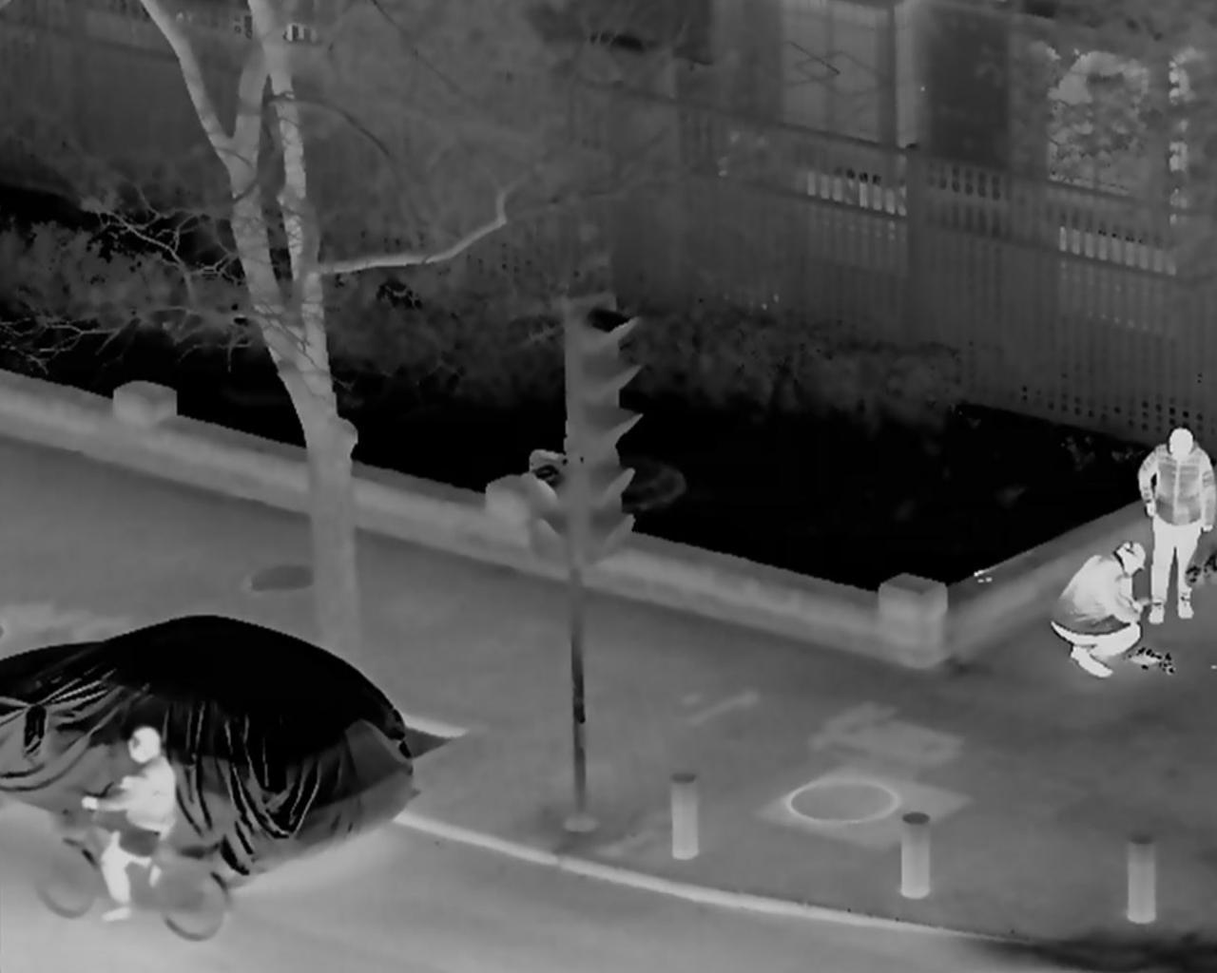person: (81, 725, 171, 923), (1136, 427, 1216, 621), (1047, 540, 1147, 681)
